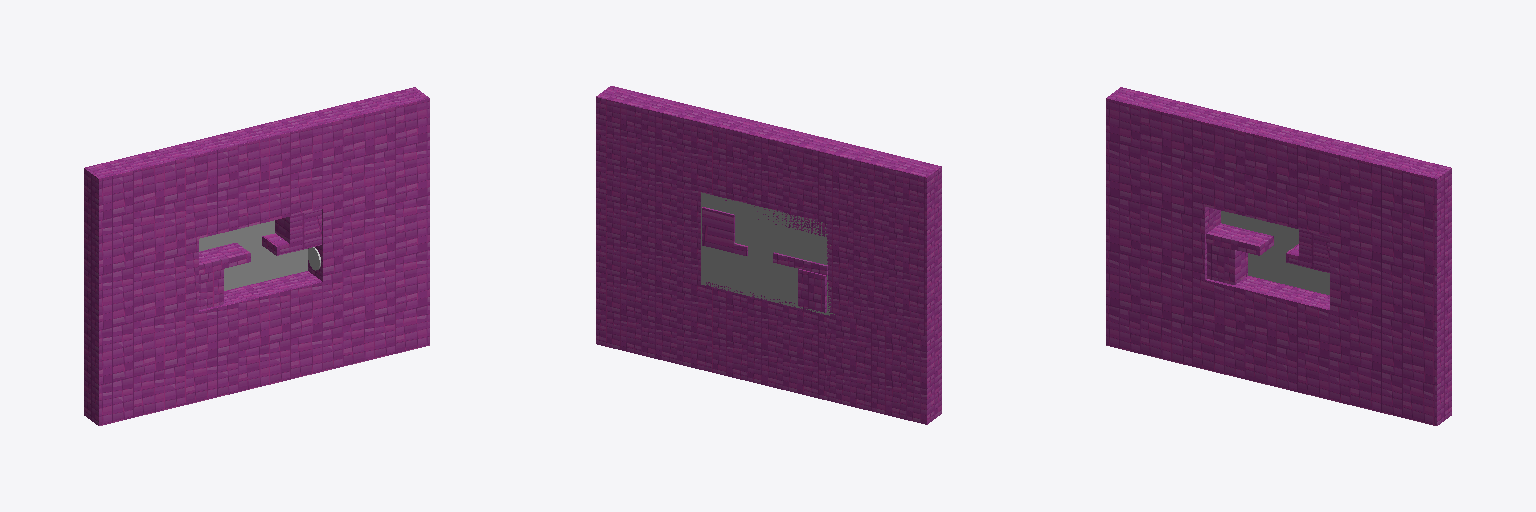
3 views of the same model, side by side, from view 1: azimuth 30°, elevation 25°; view 2: azimuth 150°, elevation 25°; view 3: azimuth 330°, elevation 25° (orthographic).
Visible parts, largest first — view 1: Cube, Plane, Cube.003, Cube.002, Cube.001; view 2: Cube, Plane, Cube.003, Cube.001, Cube.002; view 3: Cube, Plane, Cube.001, Cube.002, Cube.003.
Part boxes in pixels (x1,y1,x2,y2): Cube: (84,87,429,425); Plane: (199,220,307,290); Cube.003: (262,209,321,255); Cube.002: (199,243,250,274); Cube.001: (199,269,223,309); Cube: (596,86,941,424); Plane: (701,192,834,315); Cube.003: (702,207,747,255); Cube.001: (798,269,826,312); Cube.002: (773,252,827,275); Cube: (1106,87,1451,425); Plane: (1221,211,1329,294); Cube.001: (1207,243,1247,284); Cube.002: (1206,223,1273,255); Cube.003: (1286,230,1329,272).
Bounding box in the file's own units: 37.48 × 26.75 × 3.37.
Materials: 4 (1 with a texture image).